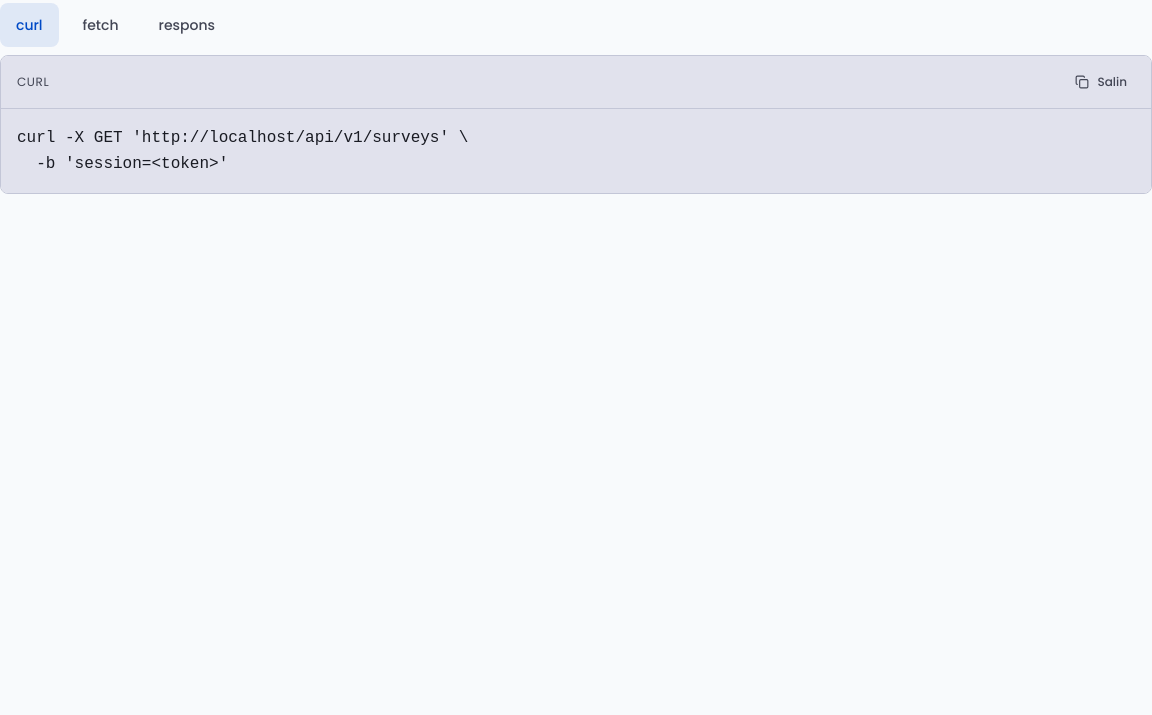
Test case: TabSnippet › menandai medan respons yang boleh kosong
Click the button "respons" at (187, 25), box [142, 3, 231, 47]
(page scrolled)
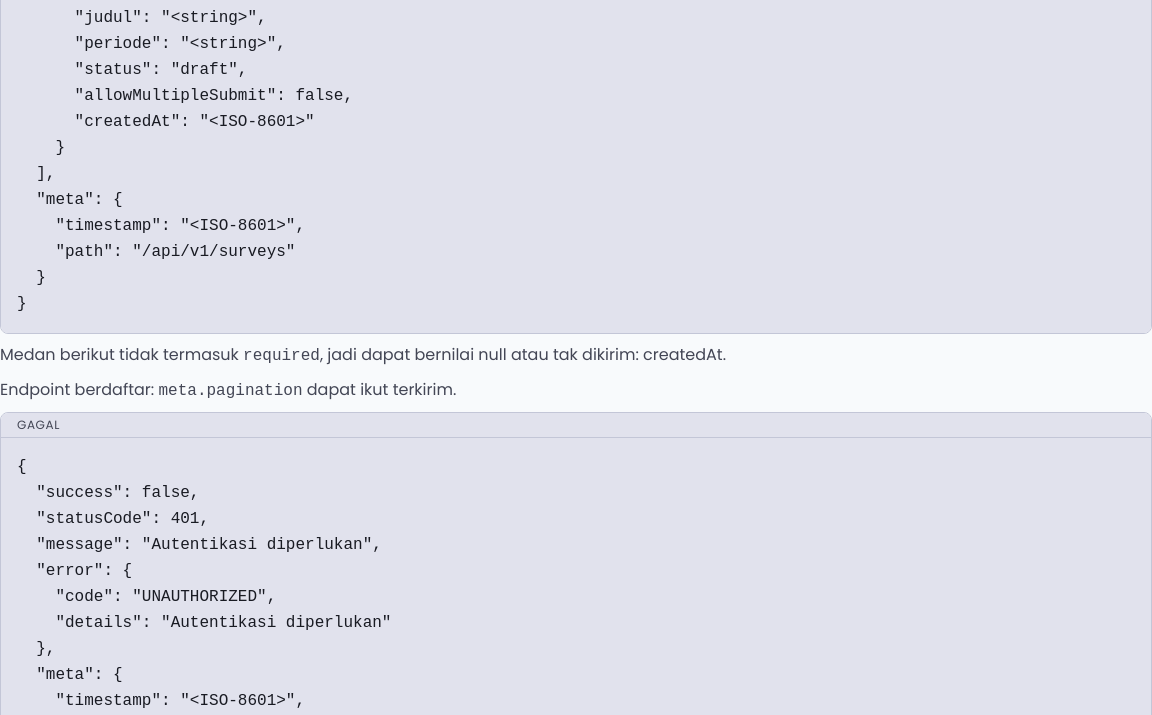
Expected: the text "dapat bernilai null" shows "createdAt", [643, 343, 723, 366]
